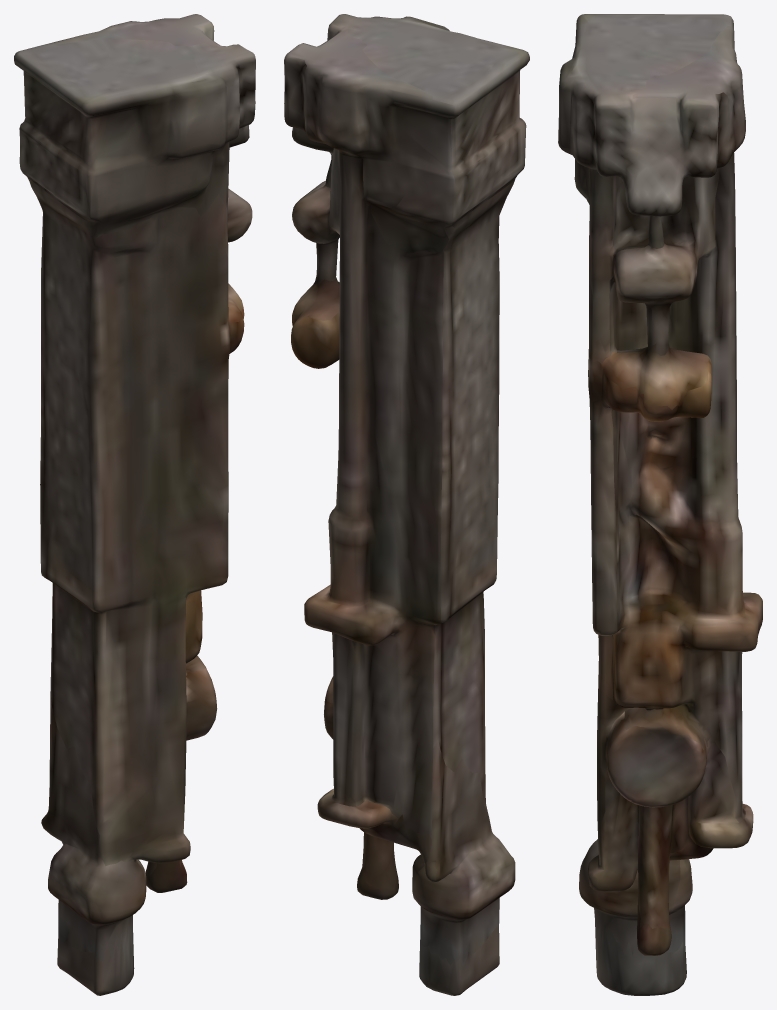
Rendered from import-1780595296043-pillar2.web.webp.glb.
3 renders of one model, left to right at view 1: azimuth 30°, elevation 25°; view 2: azimuth 150°, elevation 25°; view 3: azimuth 270°, elevation 25°, orthographic. The views are drawn at different scales.
Bounding box in the file's own units: 0.0504 × 0.227 × 0.0443.
1 material, 1 textured.
